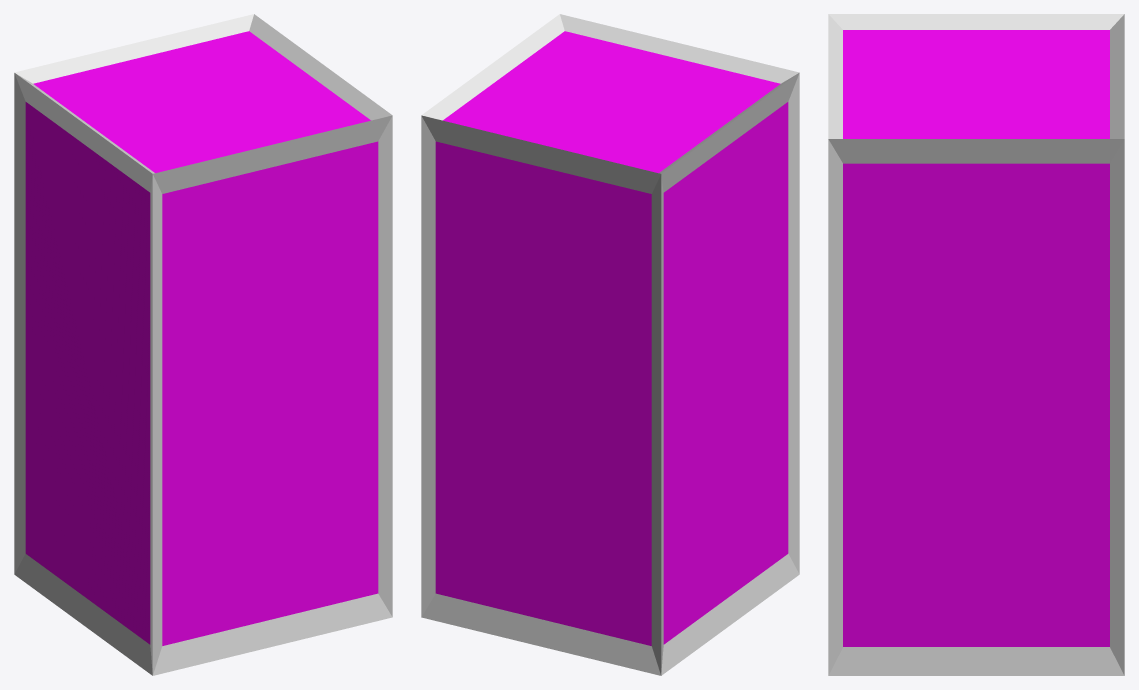
The model's file is playerrose.fbx.
3 views of the same model, side by side, from view 1: azimuth 30°, elevation 25°; view 2: azimuth 150°, elevation 25°; view 3: azimuth 270°, elevation 25° (orthographic). The views are drawn at different scales.
Parts seen in each view (by area): view 1: Cube; view 2: Cube; view 3: Cube.
Boxes of the visible parts, <box> form: Cube: <box>14,14,392,675</box>; Cube: <box>421,14,799,675</box>; Cube: <box>828,14,1124,675</box>.
Bounding box in the file's own units: 830 × 1661 × 830.
